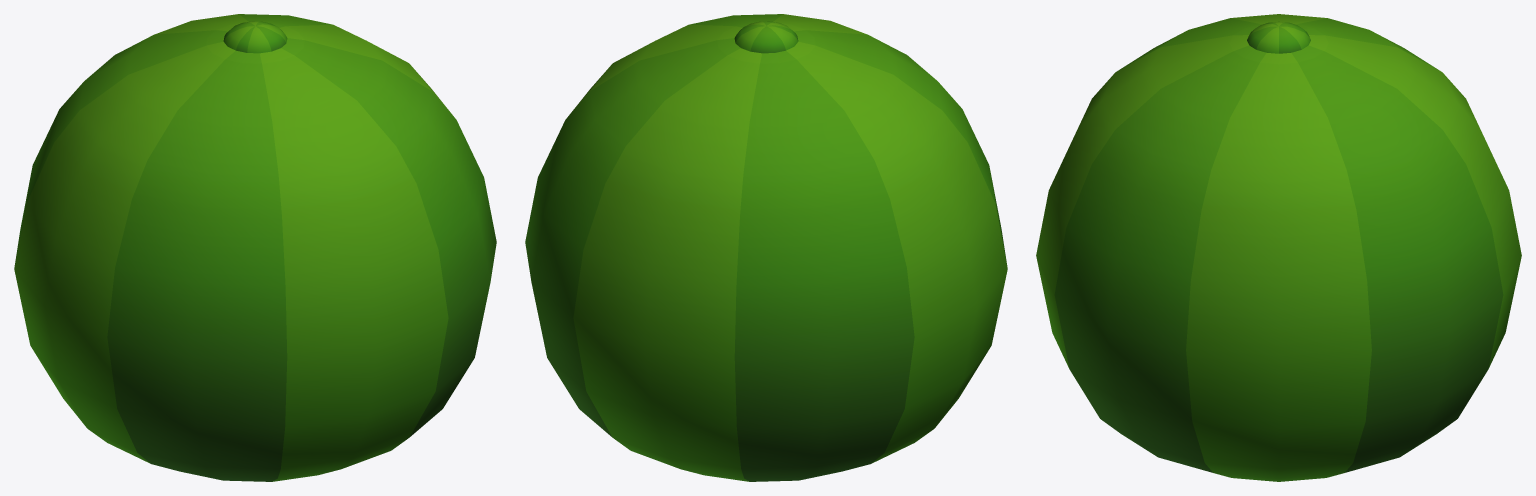
Rendered from Watermelon.fbx.
The picture shows the model from 3 angles, left to right: view 1: azimuth 30°, elevation 25°; view 2: azimuth 150°, elevation 25°; view 3: azimuth 270°, elevation 25°; orthographic projection.
Visible parts, largest first — view 1: Watermelon; view 2: Watermelon; view 3: Watermelon.
Boxes of the visible parts, left/top/right/bottom form: Watermelon: left=14, top=14, right=496, bottom=481; Watermelon: left=525, top=14, right=1007, bottom=481; Watermelon: left=1036, top=14, right=1521, bottom=481.
Bounding box in the file's own units: 113 × 107 × 113.
